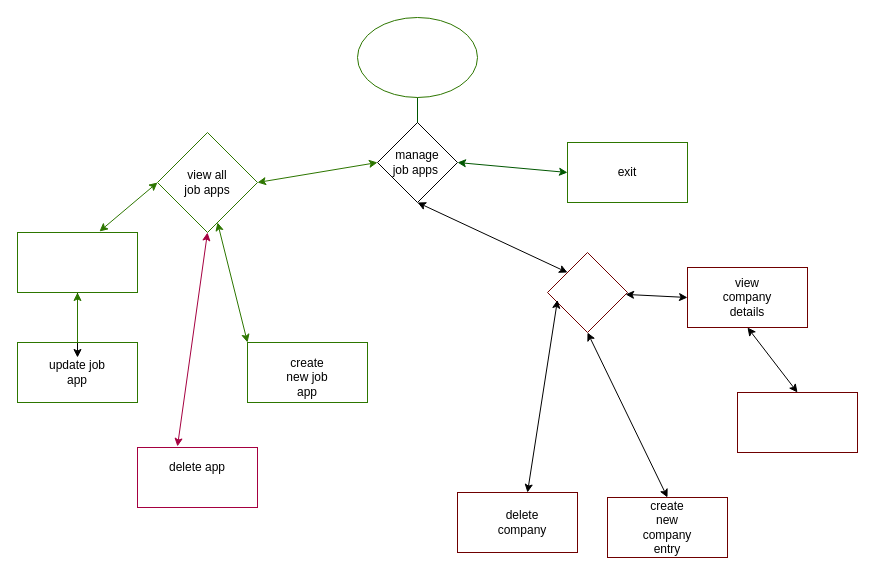
This 875x575 diagram has some shape labels left out. Each missing label, with the centre of its shape:
"update company" belongs at pixel 797 422.
"view all companies" belongs at pixel 587 292.
"view details" belongs at pixel 77 262.
"welcome menu" belongs at pixel 417 57.
